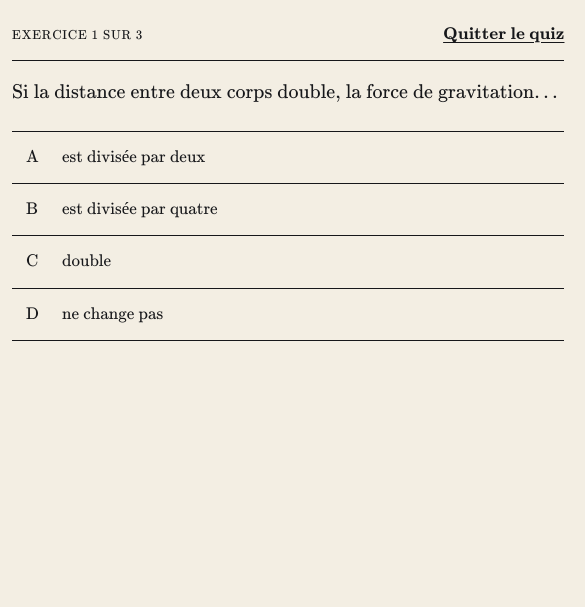
Test: the final score › counts the right answers and lists each exercise
This screenshot has width=585, height=607.
Click the button "B est divisée par quatre". click: click(140, 209)
box: x1=12 y1=184 x2=564 y2=235
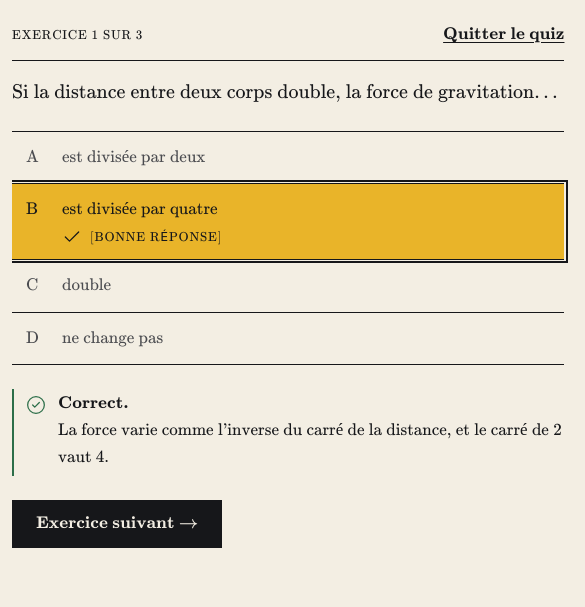
Click the button "Exercice suivant →". click: click(117, 524)
box: x1=12 y1=500 x2=222 y2=548
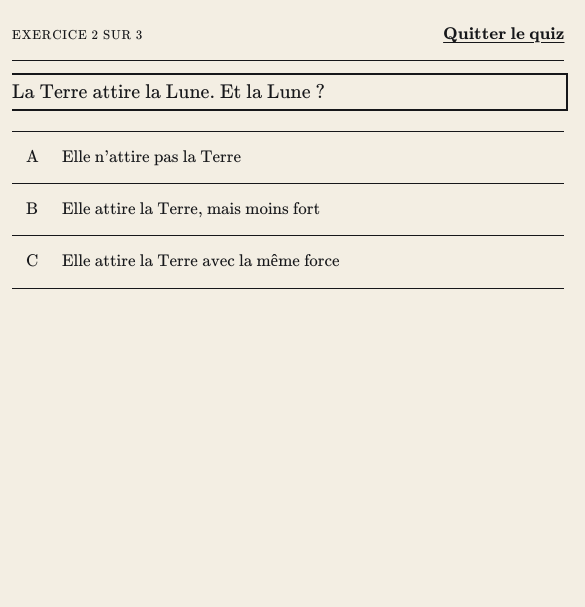
Click the button "A Elle n'attire pas la Terre". click: click(152, 157)
box: x1=12 y1=132 x2=564 y2=183
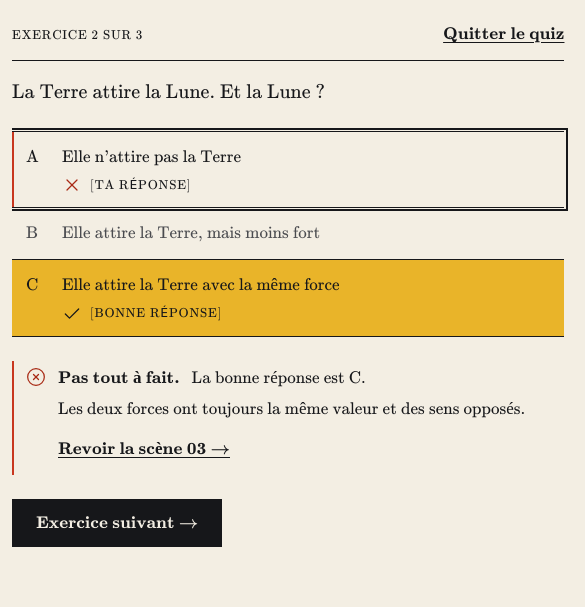
Click the button "Exercice suivant →". click: click(117, 523)
box: x1=12 y1=499 x2=222 y2=547
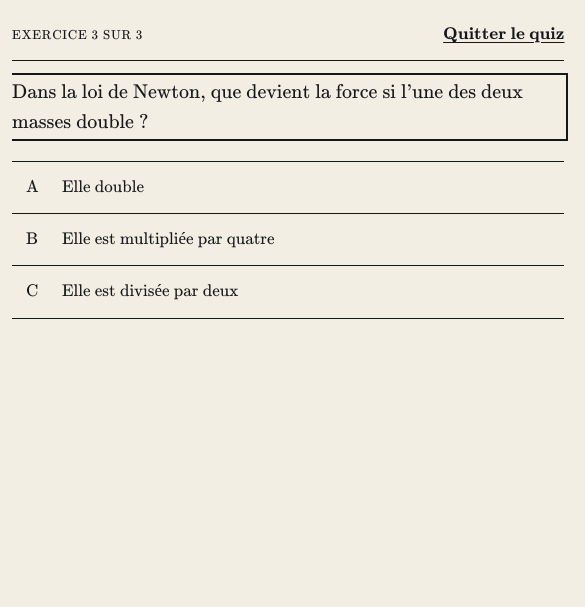
Click the button "A Elle double". click: click(103, 187)
box: x1=12 y1=162 x2=564 y2=213
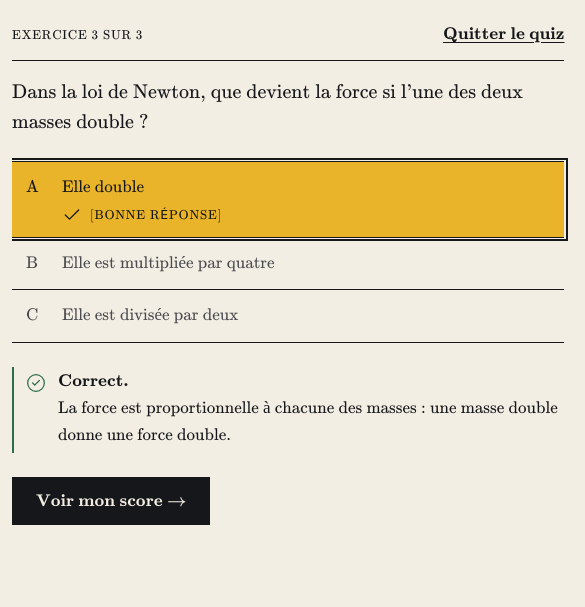
Click the button "Voir mon score →". click: click(111, 501)
box: x1=12 y1=477 x2=210 y2=525
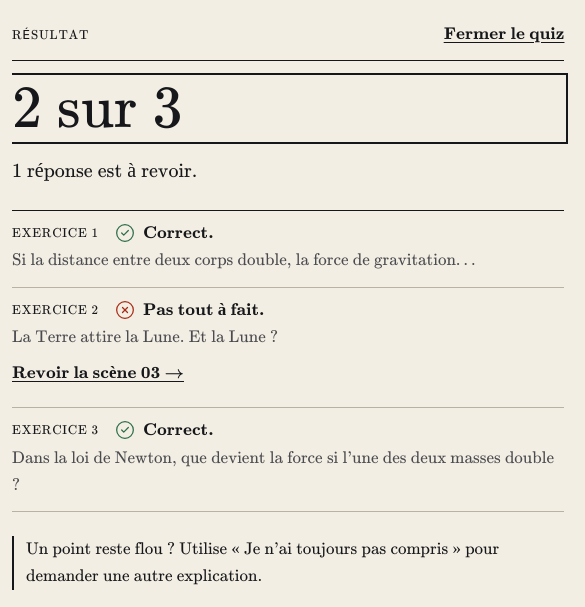
Check: the heading "2 sur 3" is shown, box x1=12 y1=73 x2=182 y2=143
Check: the text "Résultat" is shown, box x1=12 y1=26 x2=89 y2=44
